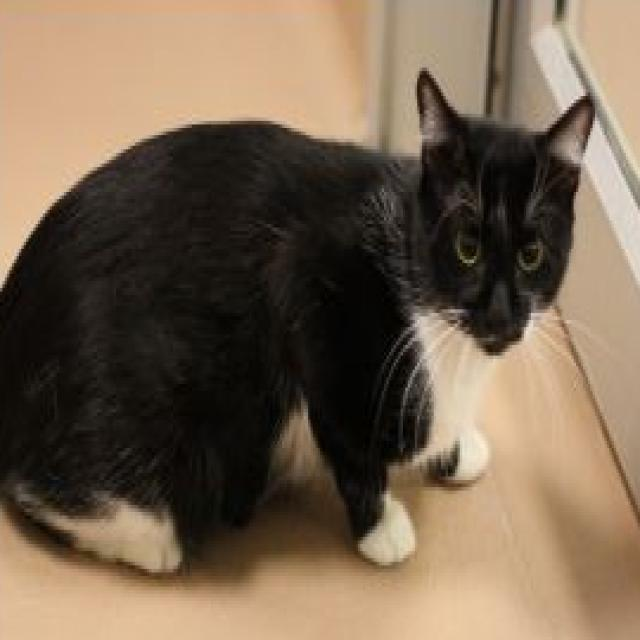Tuxedo: (0, 60, 597, 579)
